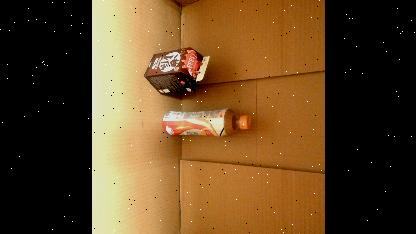Plastic Bottle: (162, 109, 249, 136)
